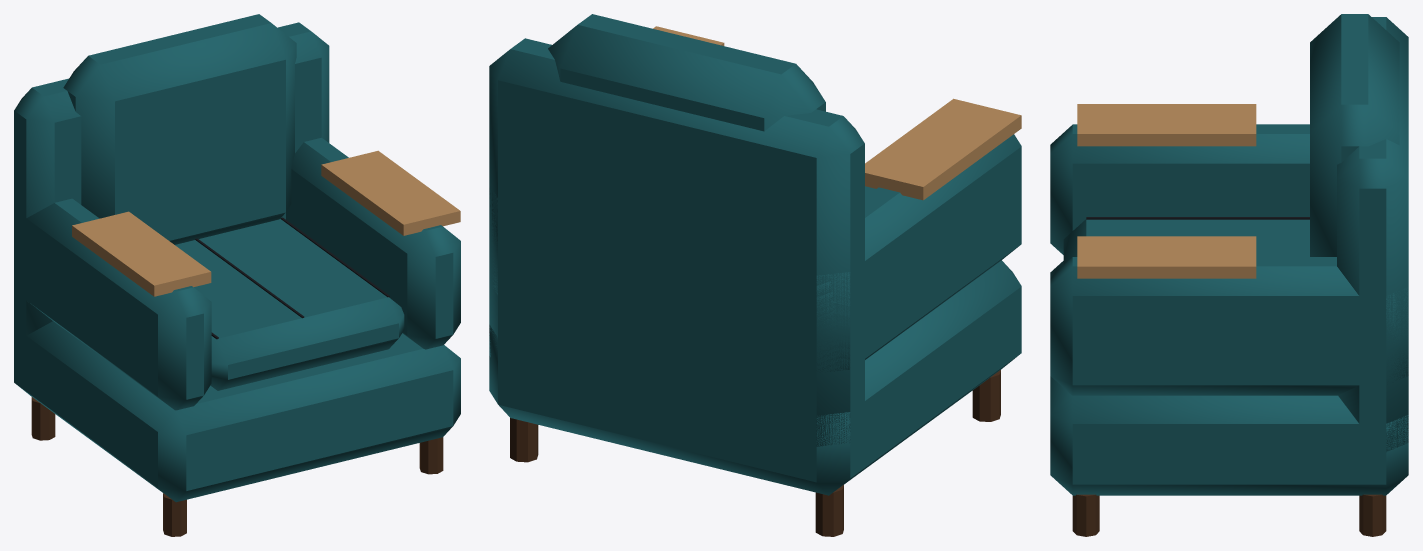
Rendered from chair_armchair.glb.
3 renders of one model, left to right at view 1: azimuth 30°, elevation 25°; view 2: azimuth 150°, elevation 25°; view 3: azimuth 270°, elevation 25°, orthographic. The views are drawn at different scales.
Parts seen in each view (by area): view 1: chair_armchair; view 2: chair_armchair; view 3: chair_armchair.
Boxes of the visible parts, left/top/right/bottom form: chair_armchair: left=14, top=14, right=460, bottom=536; chair_armchair: left=489, top=14, right=1021, bottom=536; chair_armchair: left=1050, top=14, right=1408, bottom=536.
Size of the model in its own units: 0.86 by 0.995 by 0.8.
